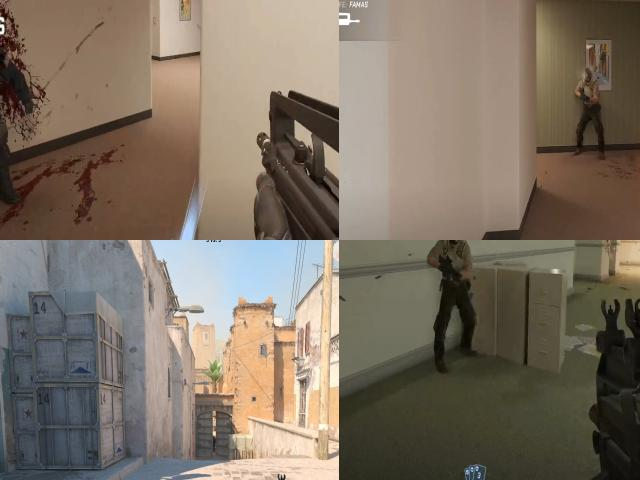CT: (213, 435, 216, 452)
CT-Head: (212, 435, 214, 437)
T: (435, 240, 476, 298), (575, 58, 604, 123)
T-Head: (582, 66, 595, 83)
